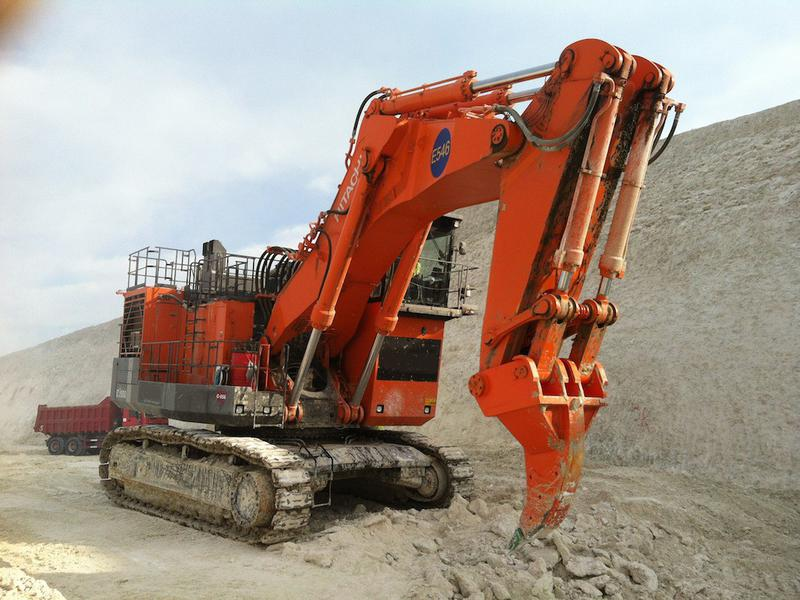shovel: (105, 29, 687, 555)
